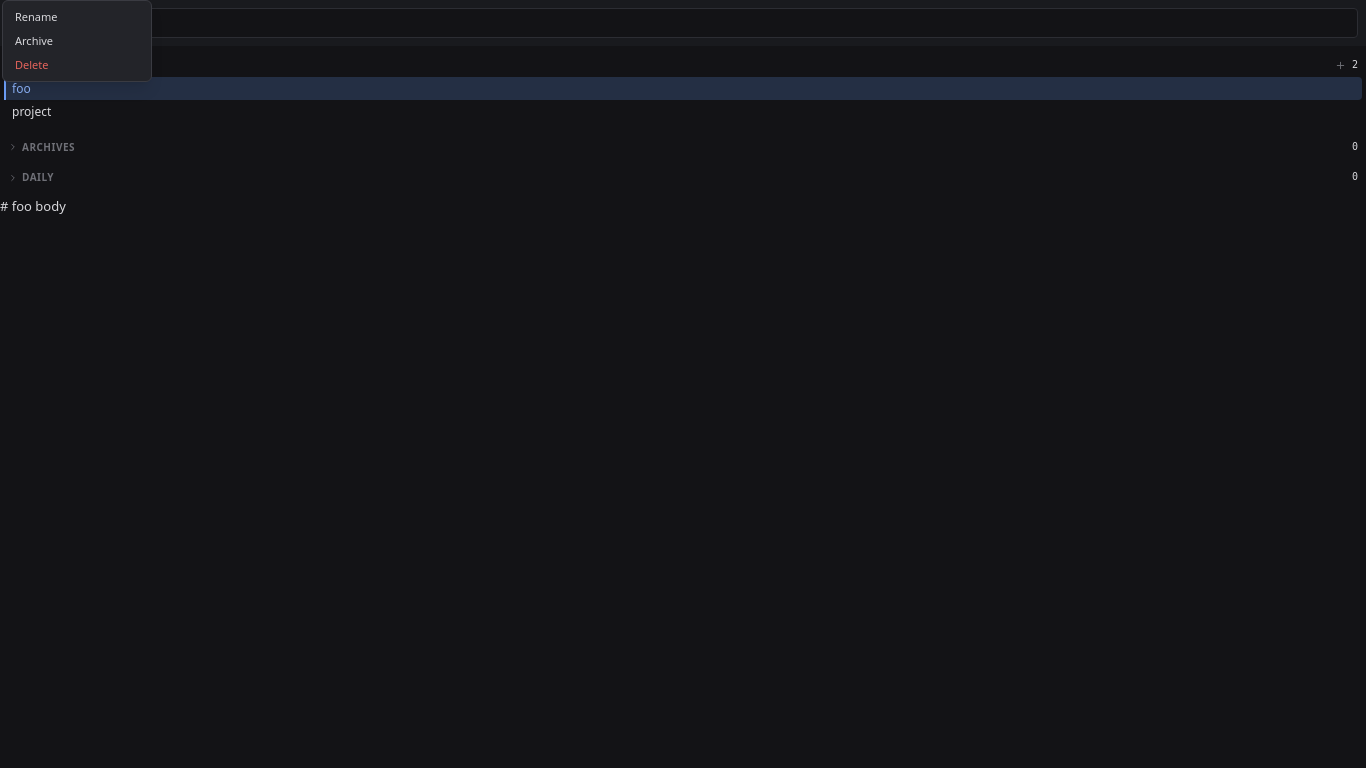
Scenario: RenameNoteDialog › renames the open document: flush, mutate, replace, retarget
The image size is (1366, 768).
Click the menu item "Rename". click: (36, 16)
box: x1=15 y1=9 x2=58 y2=24
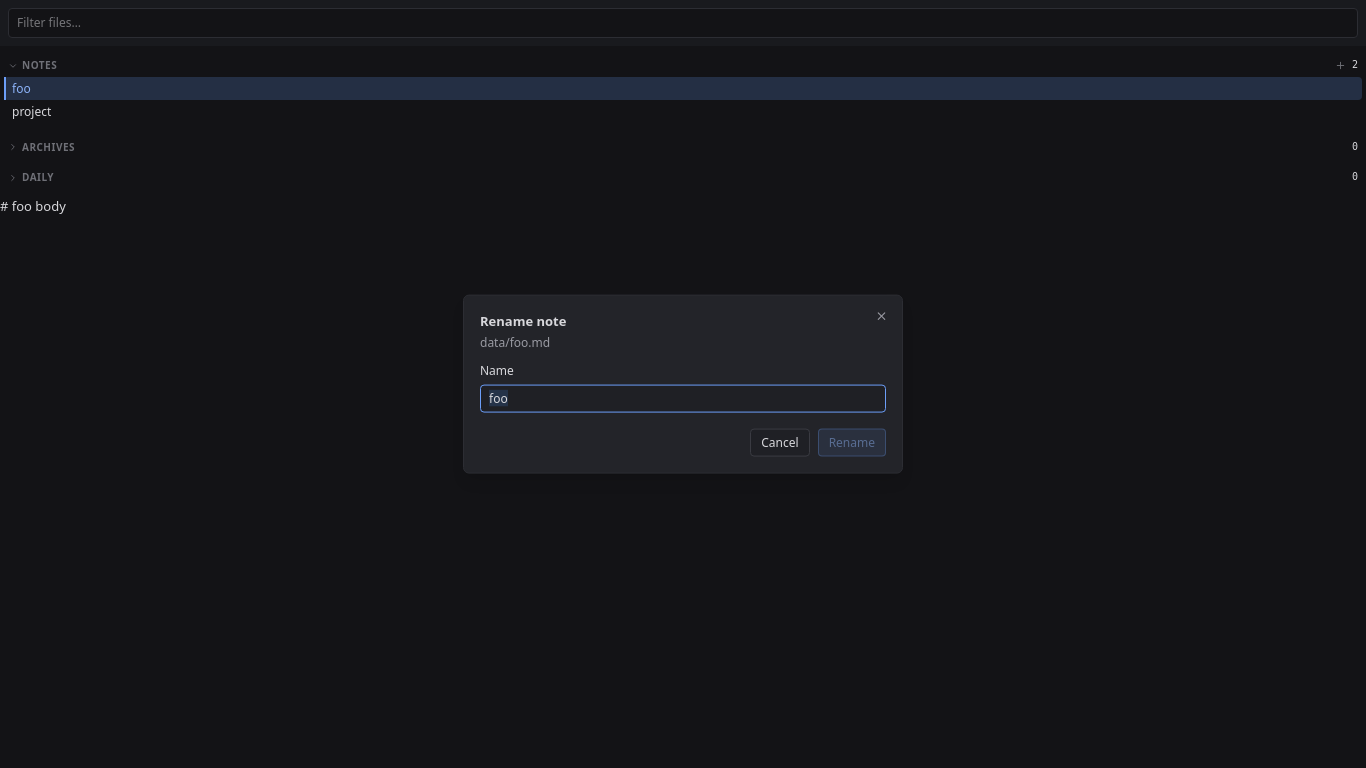
expect the field with test id "rename-note-name" is shown: met
Replace the text in the field with test id "rename-note-name" with "bar". click: (683, 398)
box: x1=480 y1=384 x2=886 y2=412
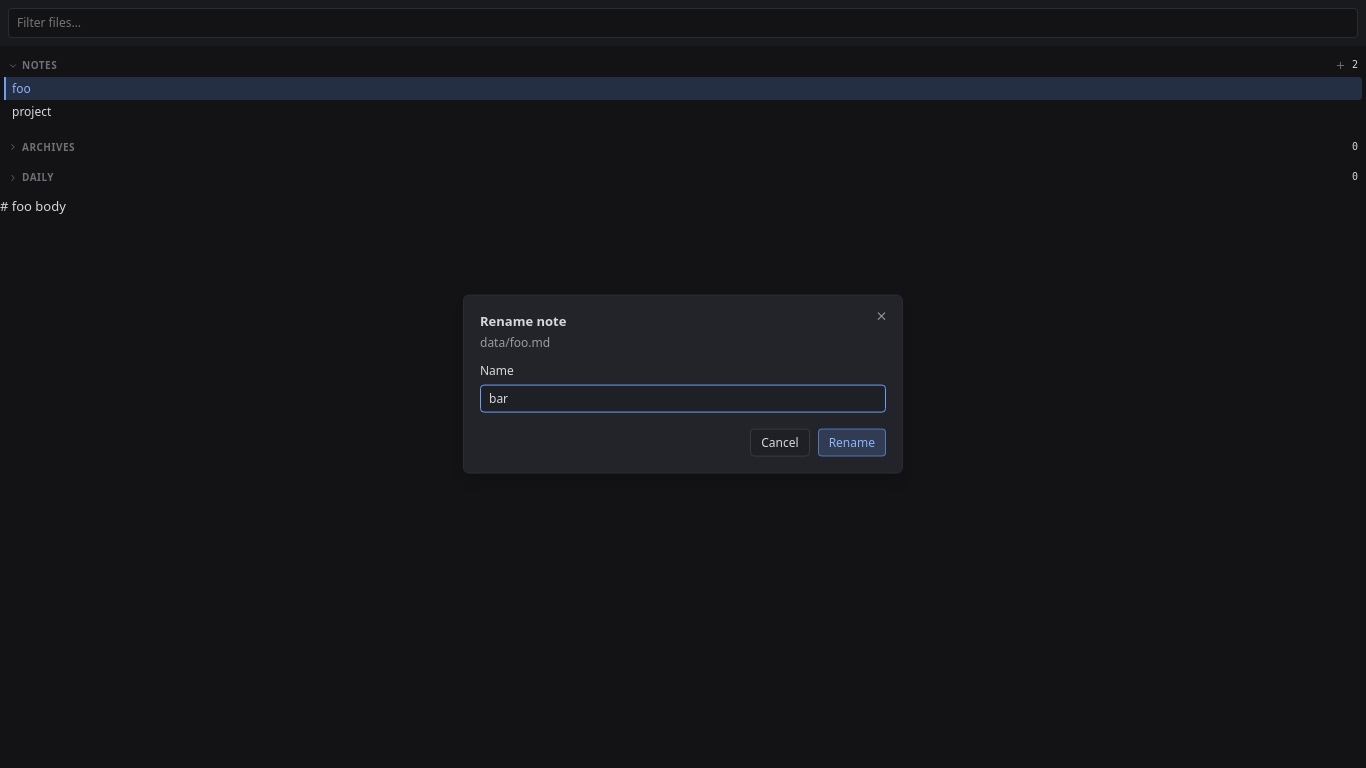
Click the button with test id "rename-note-submit". click: (852, 442)
box: x1=818 y1=428 x2=886 y2=456
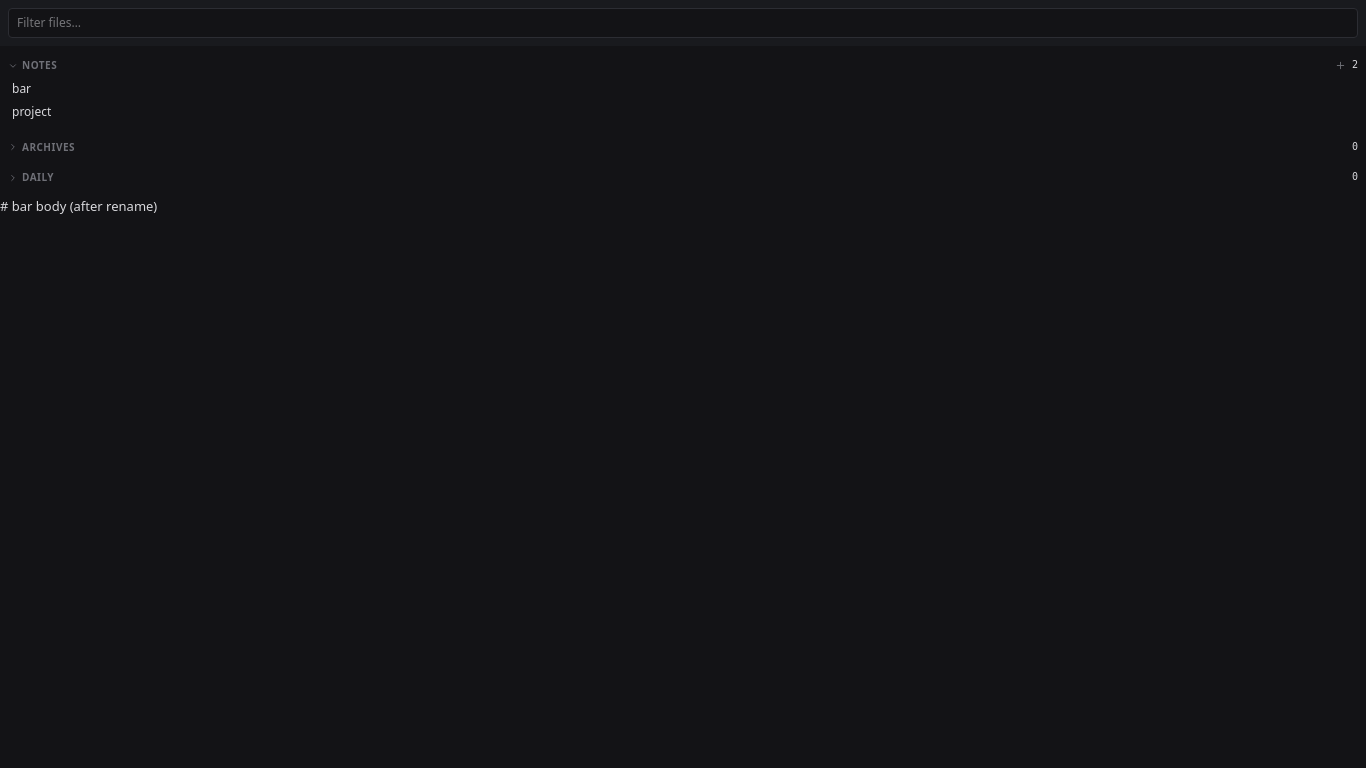
expect the text with test id "document-probe" reads "# bar body (after rename)": met, box x1=0 y1=197 x2=157 y2=215
